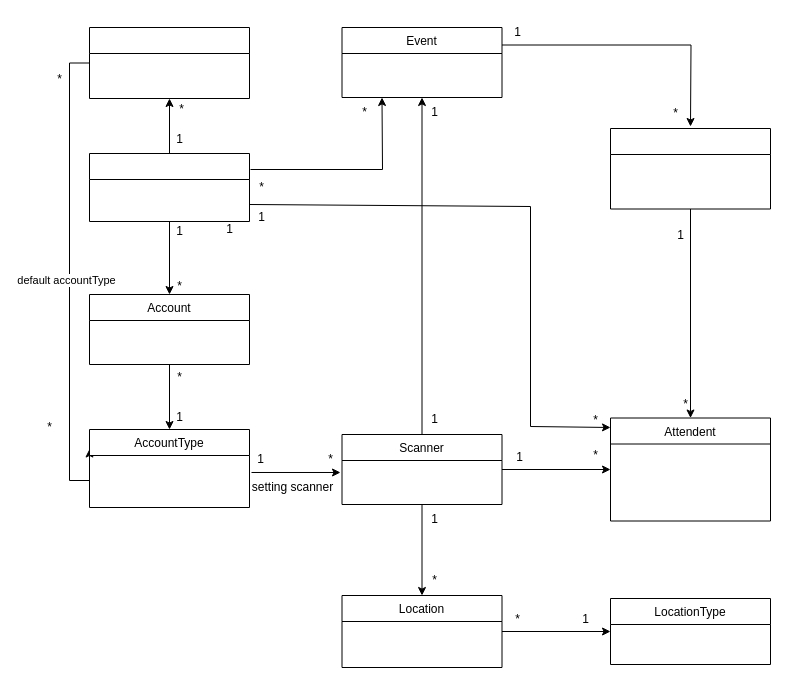
The diagram is 788 pixels wide and 685 high, and some of its shapes have lost their labels. The shapes that lost their labels are listed below. From the top down, each one's centre as x and y in pixels, then its label:
At (169,62): "Role".
At (169,187): "Member".
At (690,168): "Session".
